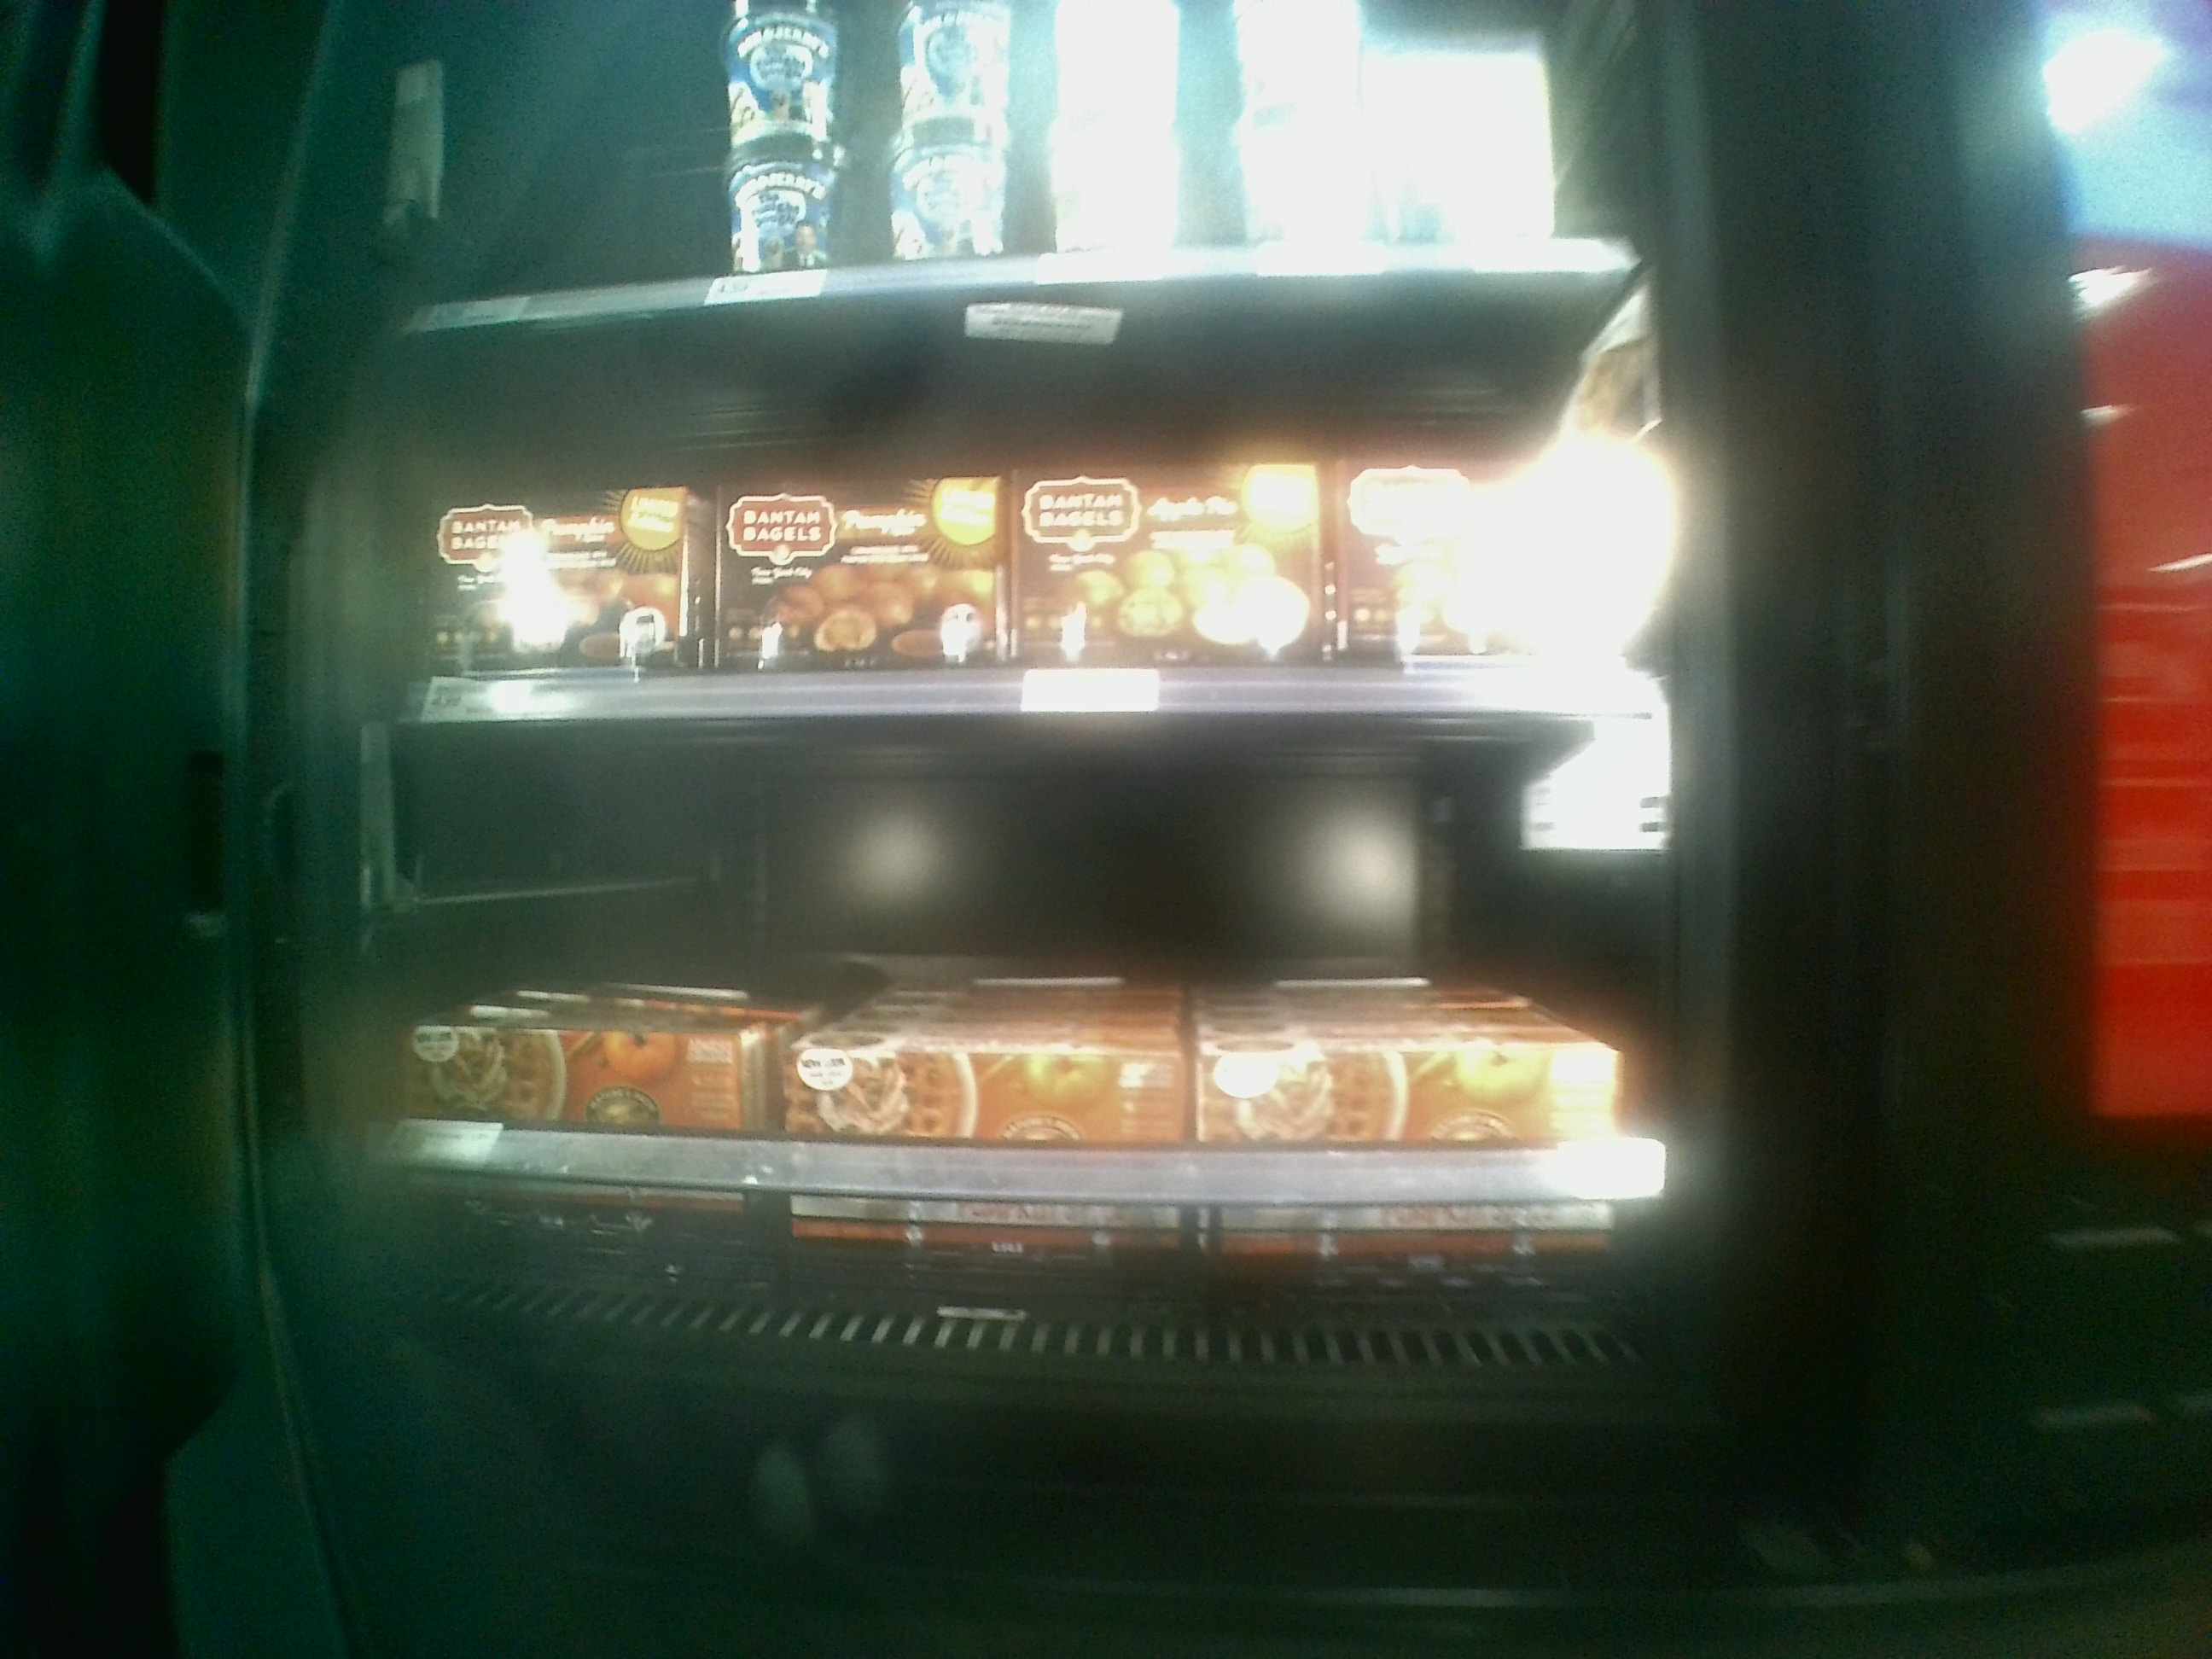shelf: (347, 716, 1695, 1394), (374, 321, 1684, 741)
